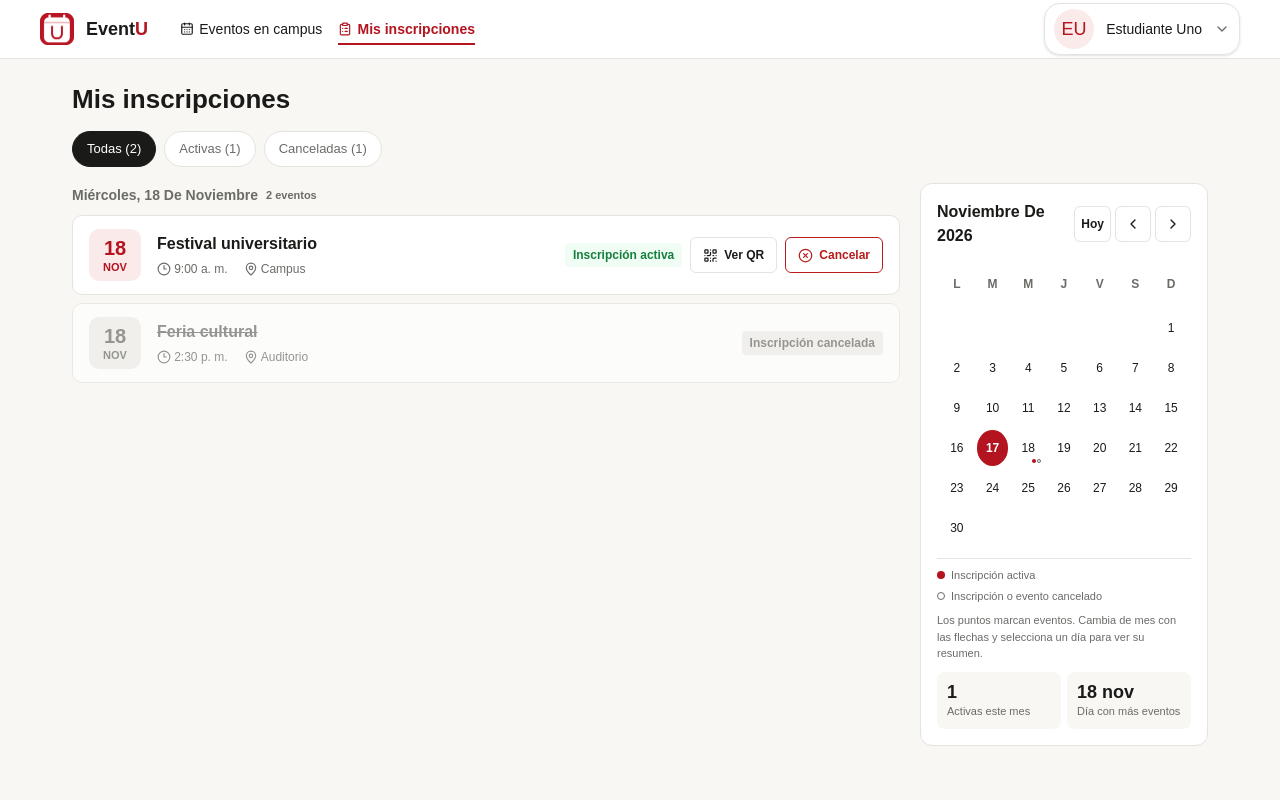
Mis inscripciones (HU-11, HU-12, HU-14) › cancela una inscripción activa y deja de ofrecer la cancelación
Click the button with aria-label "Cancelar inscripción a Festival universitario".
click(834, 255)  # box left=785, top=237, right=883, bottom=273
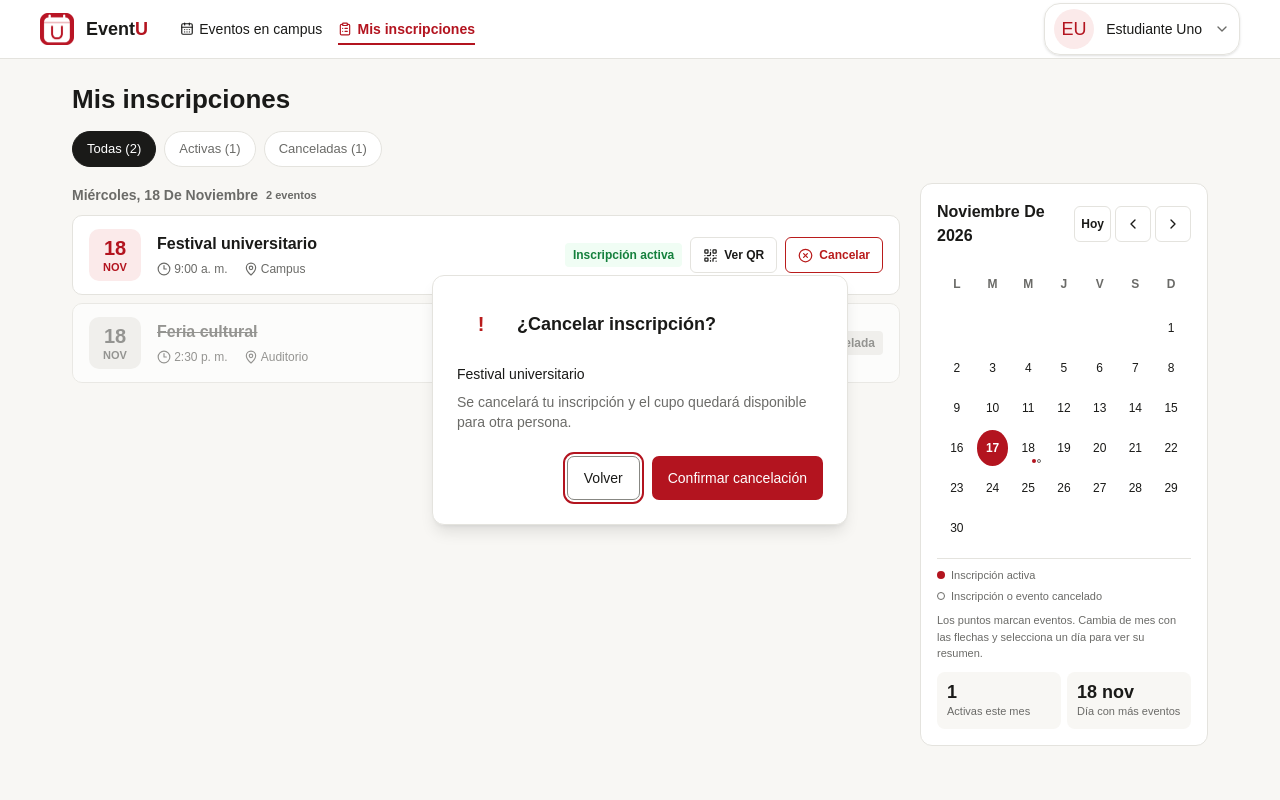
Click the button "Confirmar cancelación".
click(737, 478)  # box left=652, top=456, right=823, bottom=500
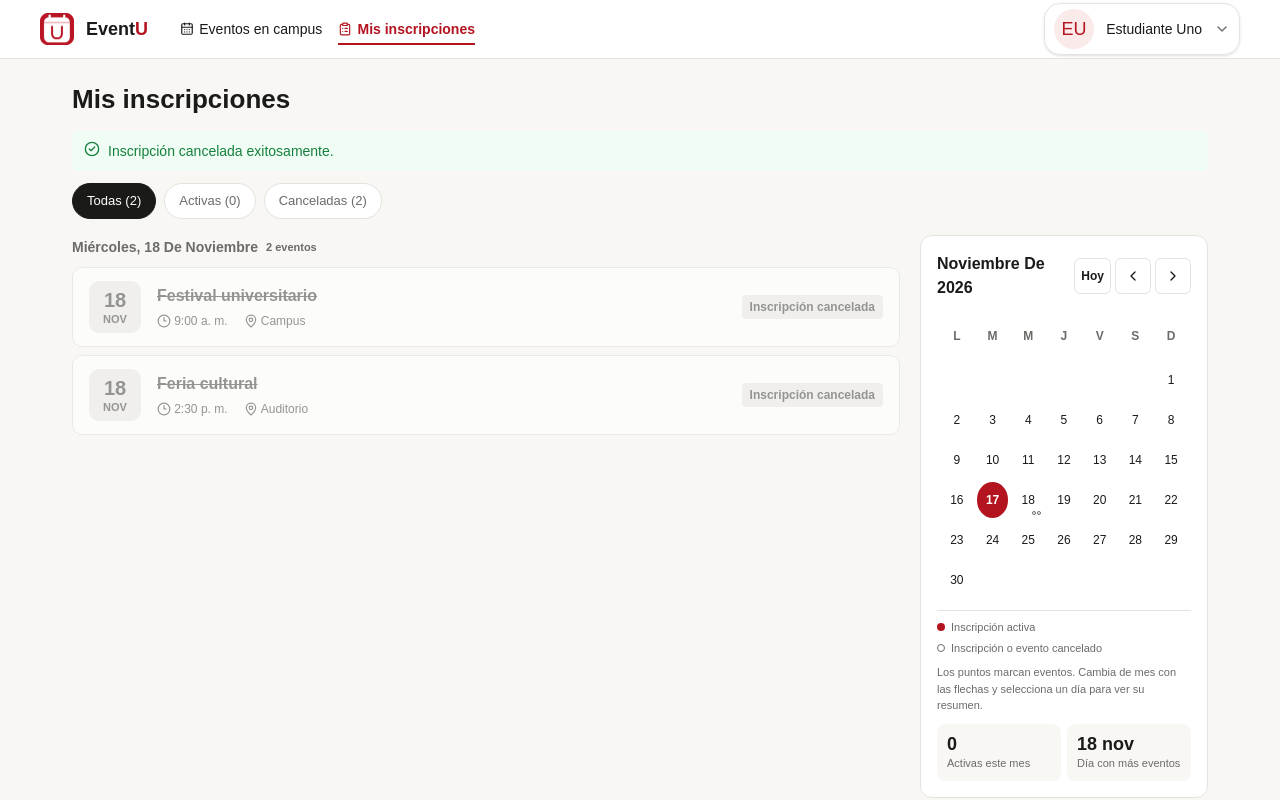
Expected: the text "Inscripción cancelada exitosamente." is shown, left=72, top=131, right=1208, bottom=171
Expected: the button "Canceladas (2)" is shown, left=264, top=183, right=382, bottom=219
